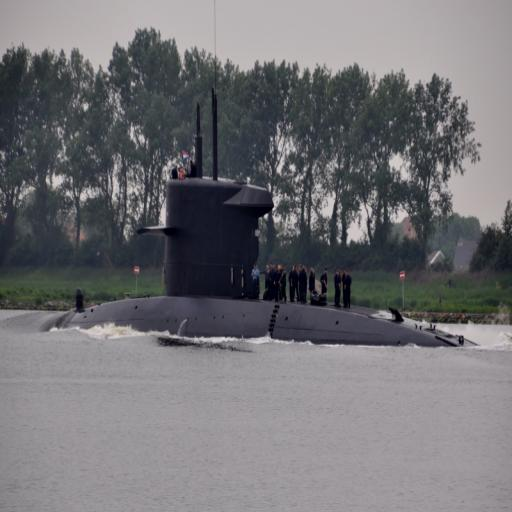submarine: (38, 92, 487, 346)
